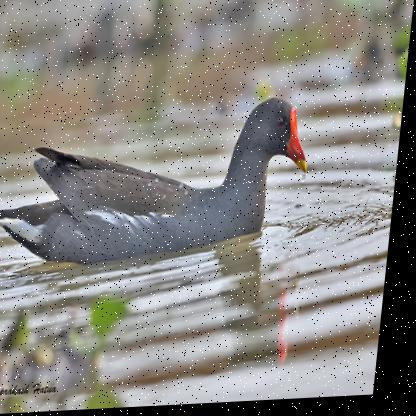Burung: (0, 98, 316, 270)
